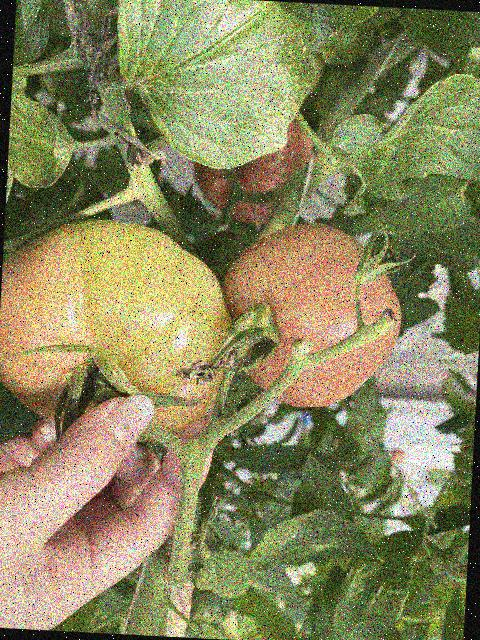b_half_ripened: (0, 215, 241, 447), (215, 219, 406, 412), (190, 113, 316, 227)
